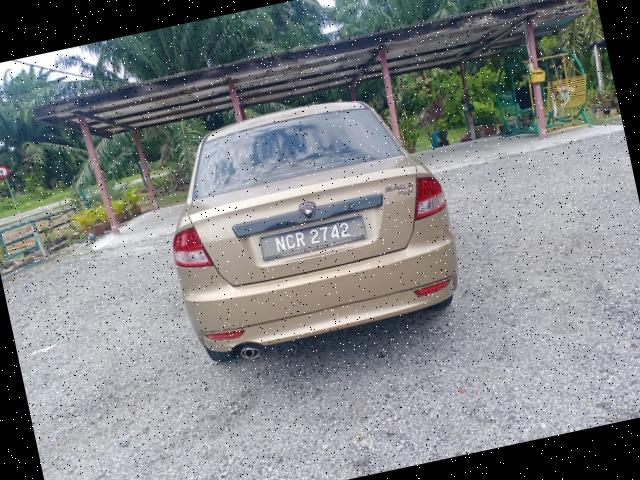License_Plate: (262, 217, 360, 264)
car: (147, 79, 470, 369)
